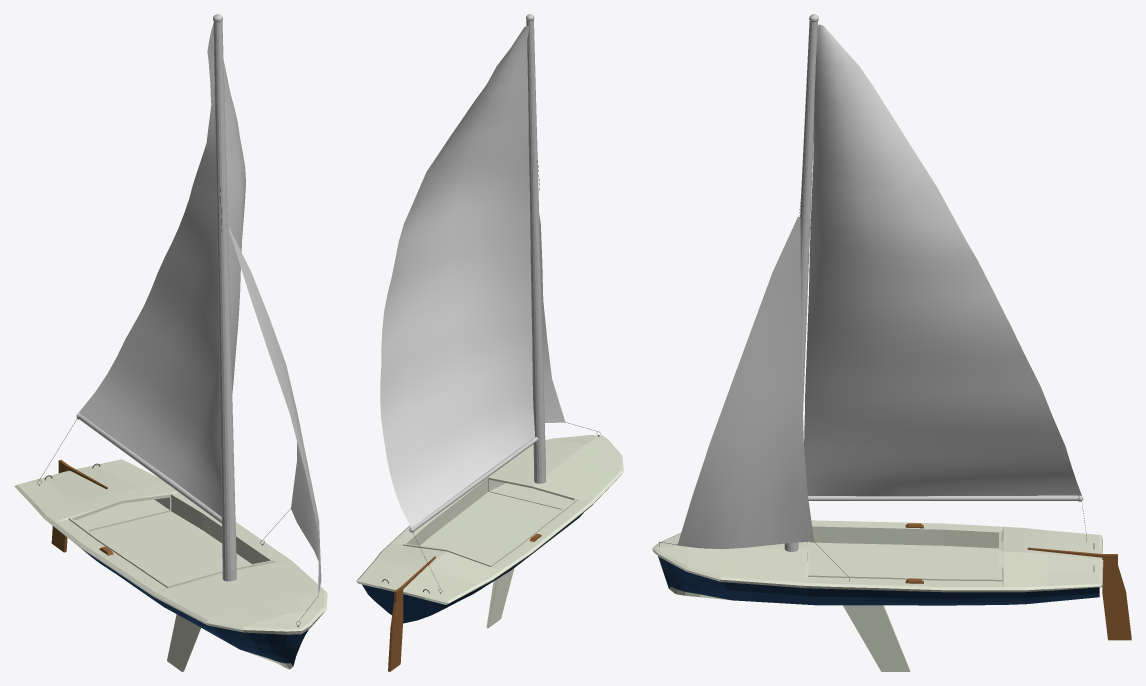
Rendered from sailboat.glb.
3 renders of one model, left to right at view 1: azimuth 30°, elevation 25°; view 2: azimuth 150°, elevation 25°; view 3: azimuth 270°, elevation 25°, orthographic. The views are drawn at different scales.
Visible parts, largest first — view 1: FlyingScotDinghy; view 2: FlyingScotDinghy; view 3: FlyingScotDinghy.
Part boxes in pixels (box(x1,y1,x2,y2)): FlyingScotDinghy: box(14, 14, 327, 671); FlyingScotDinghy: box(356, 14, 623, 671); FlyingScotDinghy: box(652, 14, 1131, 671).
Size of the model in its own units: 1.97 by 8.77 by 5.8.
